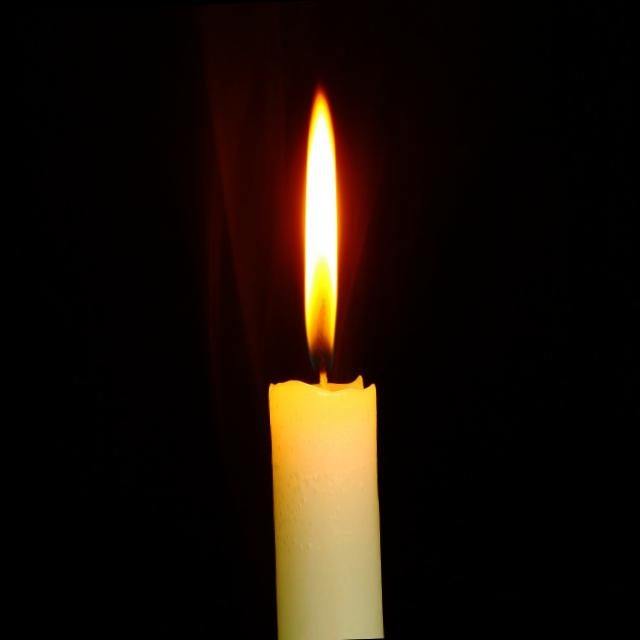Fire_Save: (256, 81, 386, 639), (294, 84, 345, 376)
